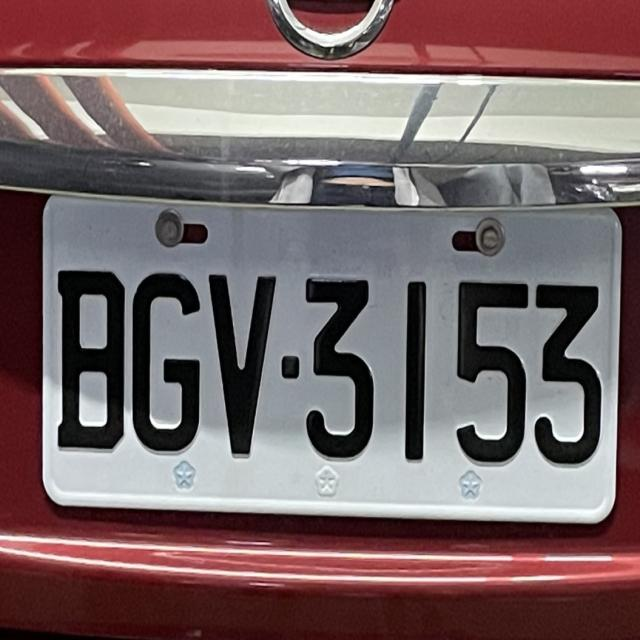license-plate: (40, 185, 628, 523)
